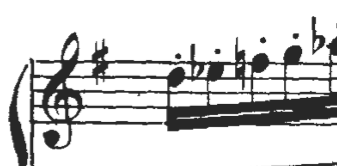sharp: (88, 36, 114, 89)
treble_clef: (38, 27, 88, 157)
